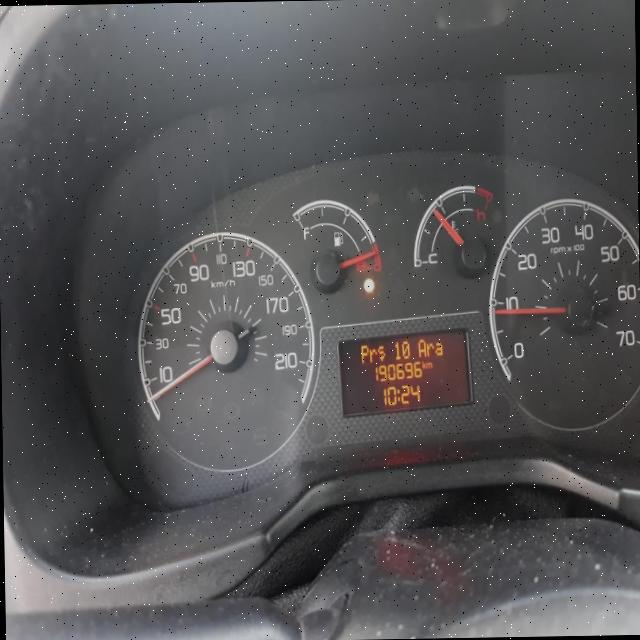odometer: (336, 324, 474, 416)
